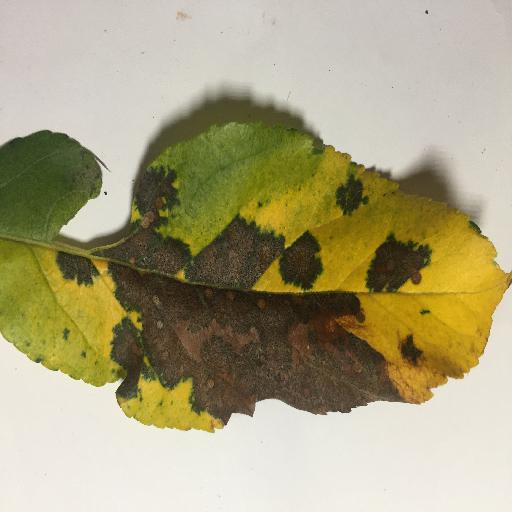Brown_Spot: (56, 249, 400, 424), (110, 216, 279, 285), (366, 235, 430, 293), (283, 234, 319, 286), (394, 333, 436, 376), (134, 167, 177, 207), (333, 177, 372, 215)
